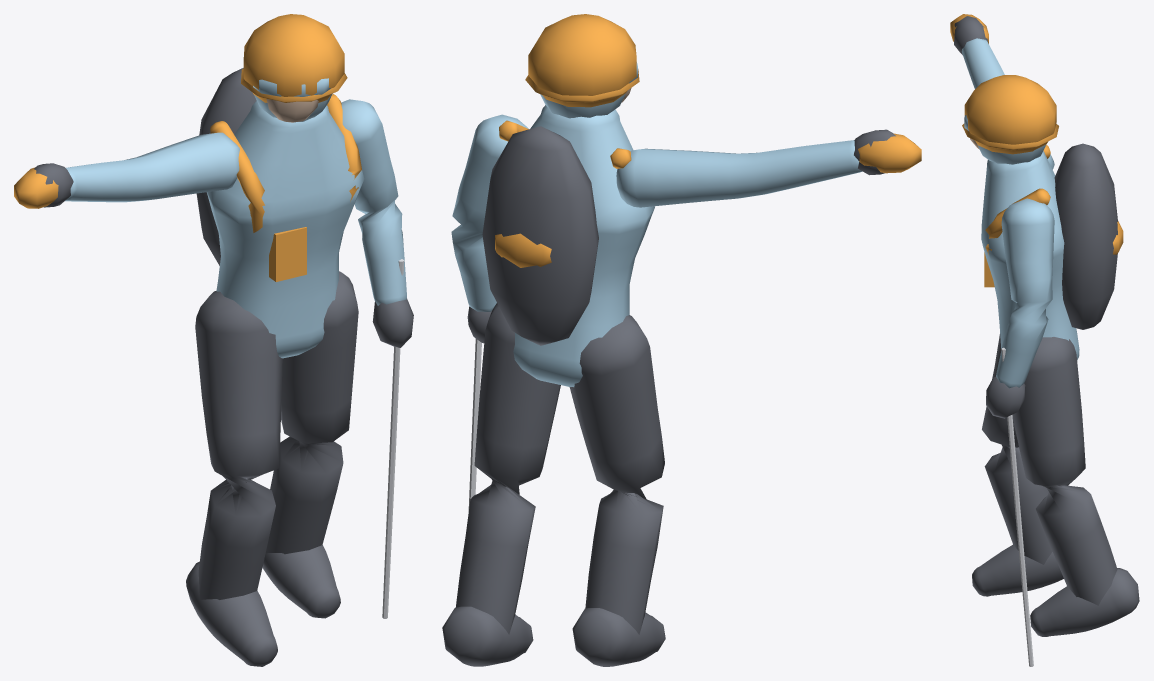
File: backcountry-snowboarding-and-avalanche-safety-guide-po-08582f64__18920.glb
The picture shows the model from 3 angles, left to right: view 1: azimuth 30°, elevation 25°; view 2: azimuth 150°, elevation 25°; view 3: azimuth 270°, elevation 25°; orthographic projection. The views are drawn at different scales.
Parts seen in each view (by area): view 1: guide-pointing-out-a-line; view 2: guide-pointing-out-a-line; view 3: guide-pointing-out-a-line.
Boxes of the visible parts, left/top/right/bottom form: guide-pointing-out-a-line: left=14, top=14, right=413, bottom=666; guide-pointing-out-a-line: left=442, top=14, right=921, bottom=666; guide-pointing-out-a-line: left=950, top=14, right=1139, bottom=666.
Size of the model in its own units: 1.22 by 1.75 by 0.5512.
